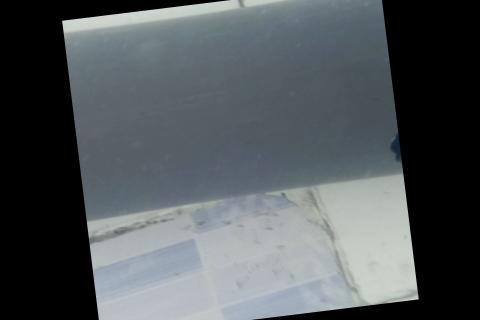kebocoran: (383, 127, 402, 167)
